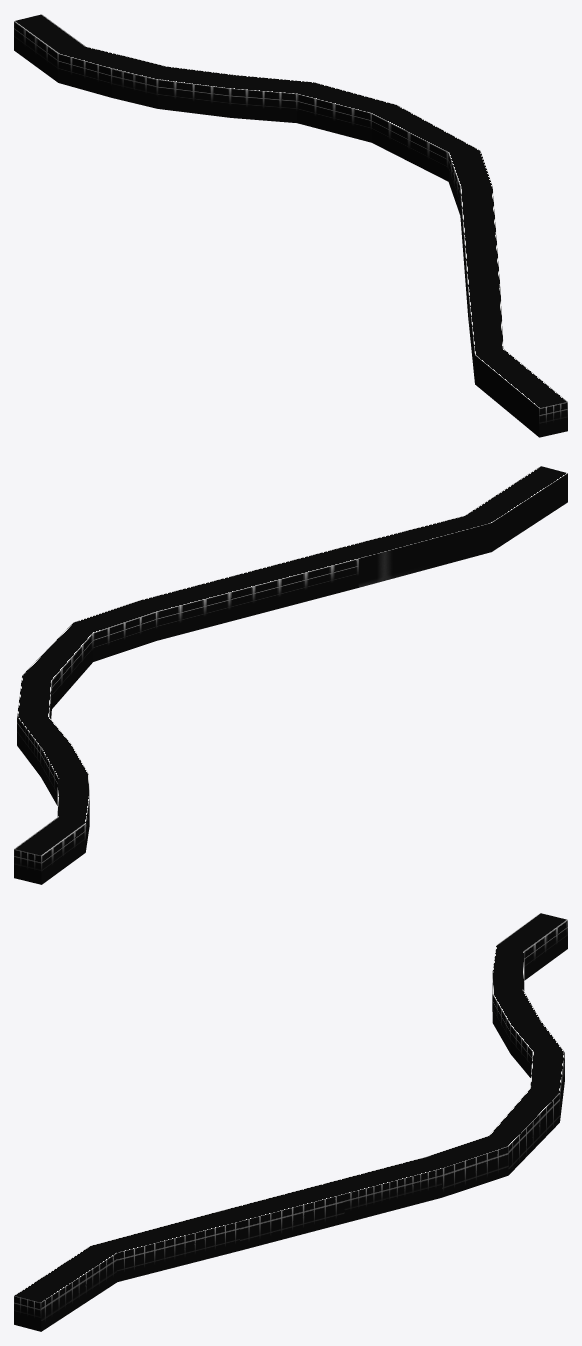
Rendered from scifi_cube_slope1.dae.
The picture shows the model from 3 angles, top to bottom: view 1: azimuth 30°, elevation 25°; view 2: azimuth 150°, elevation 25°; view 3: azimuth 330°, elevation 25°; orthographic projection.
Parts seen in each view (by area): view 1: Cube; view 2: Cube; view 3: Cube.
Part boxes in pixels (x1,y1,x2,y2): Cube: (14,14,567,437); Cube: (14,466,567,884); Cube: (14,913,567,1331).
Bounding box in the file's own units: 15.68 × 65.26 × 2.
Materials: 2 (2 with a texture image).
